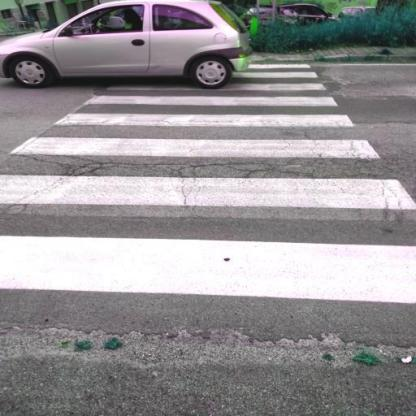crosswalk: (3, 112, 384, 169)
